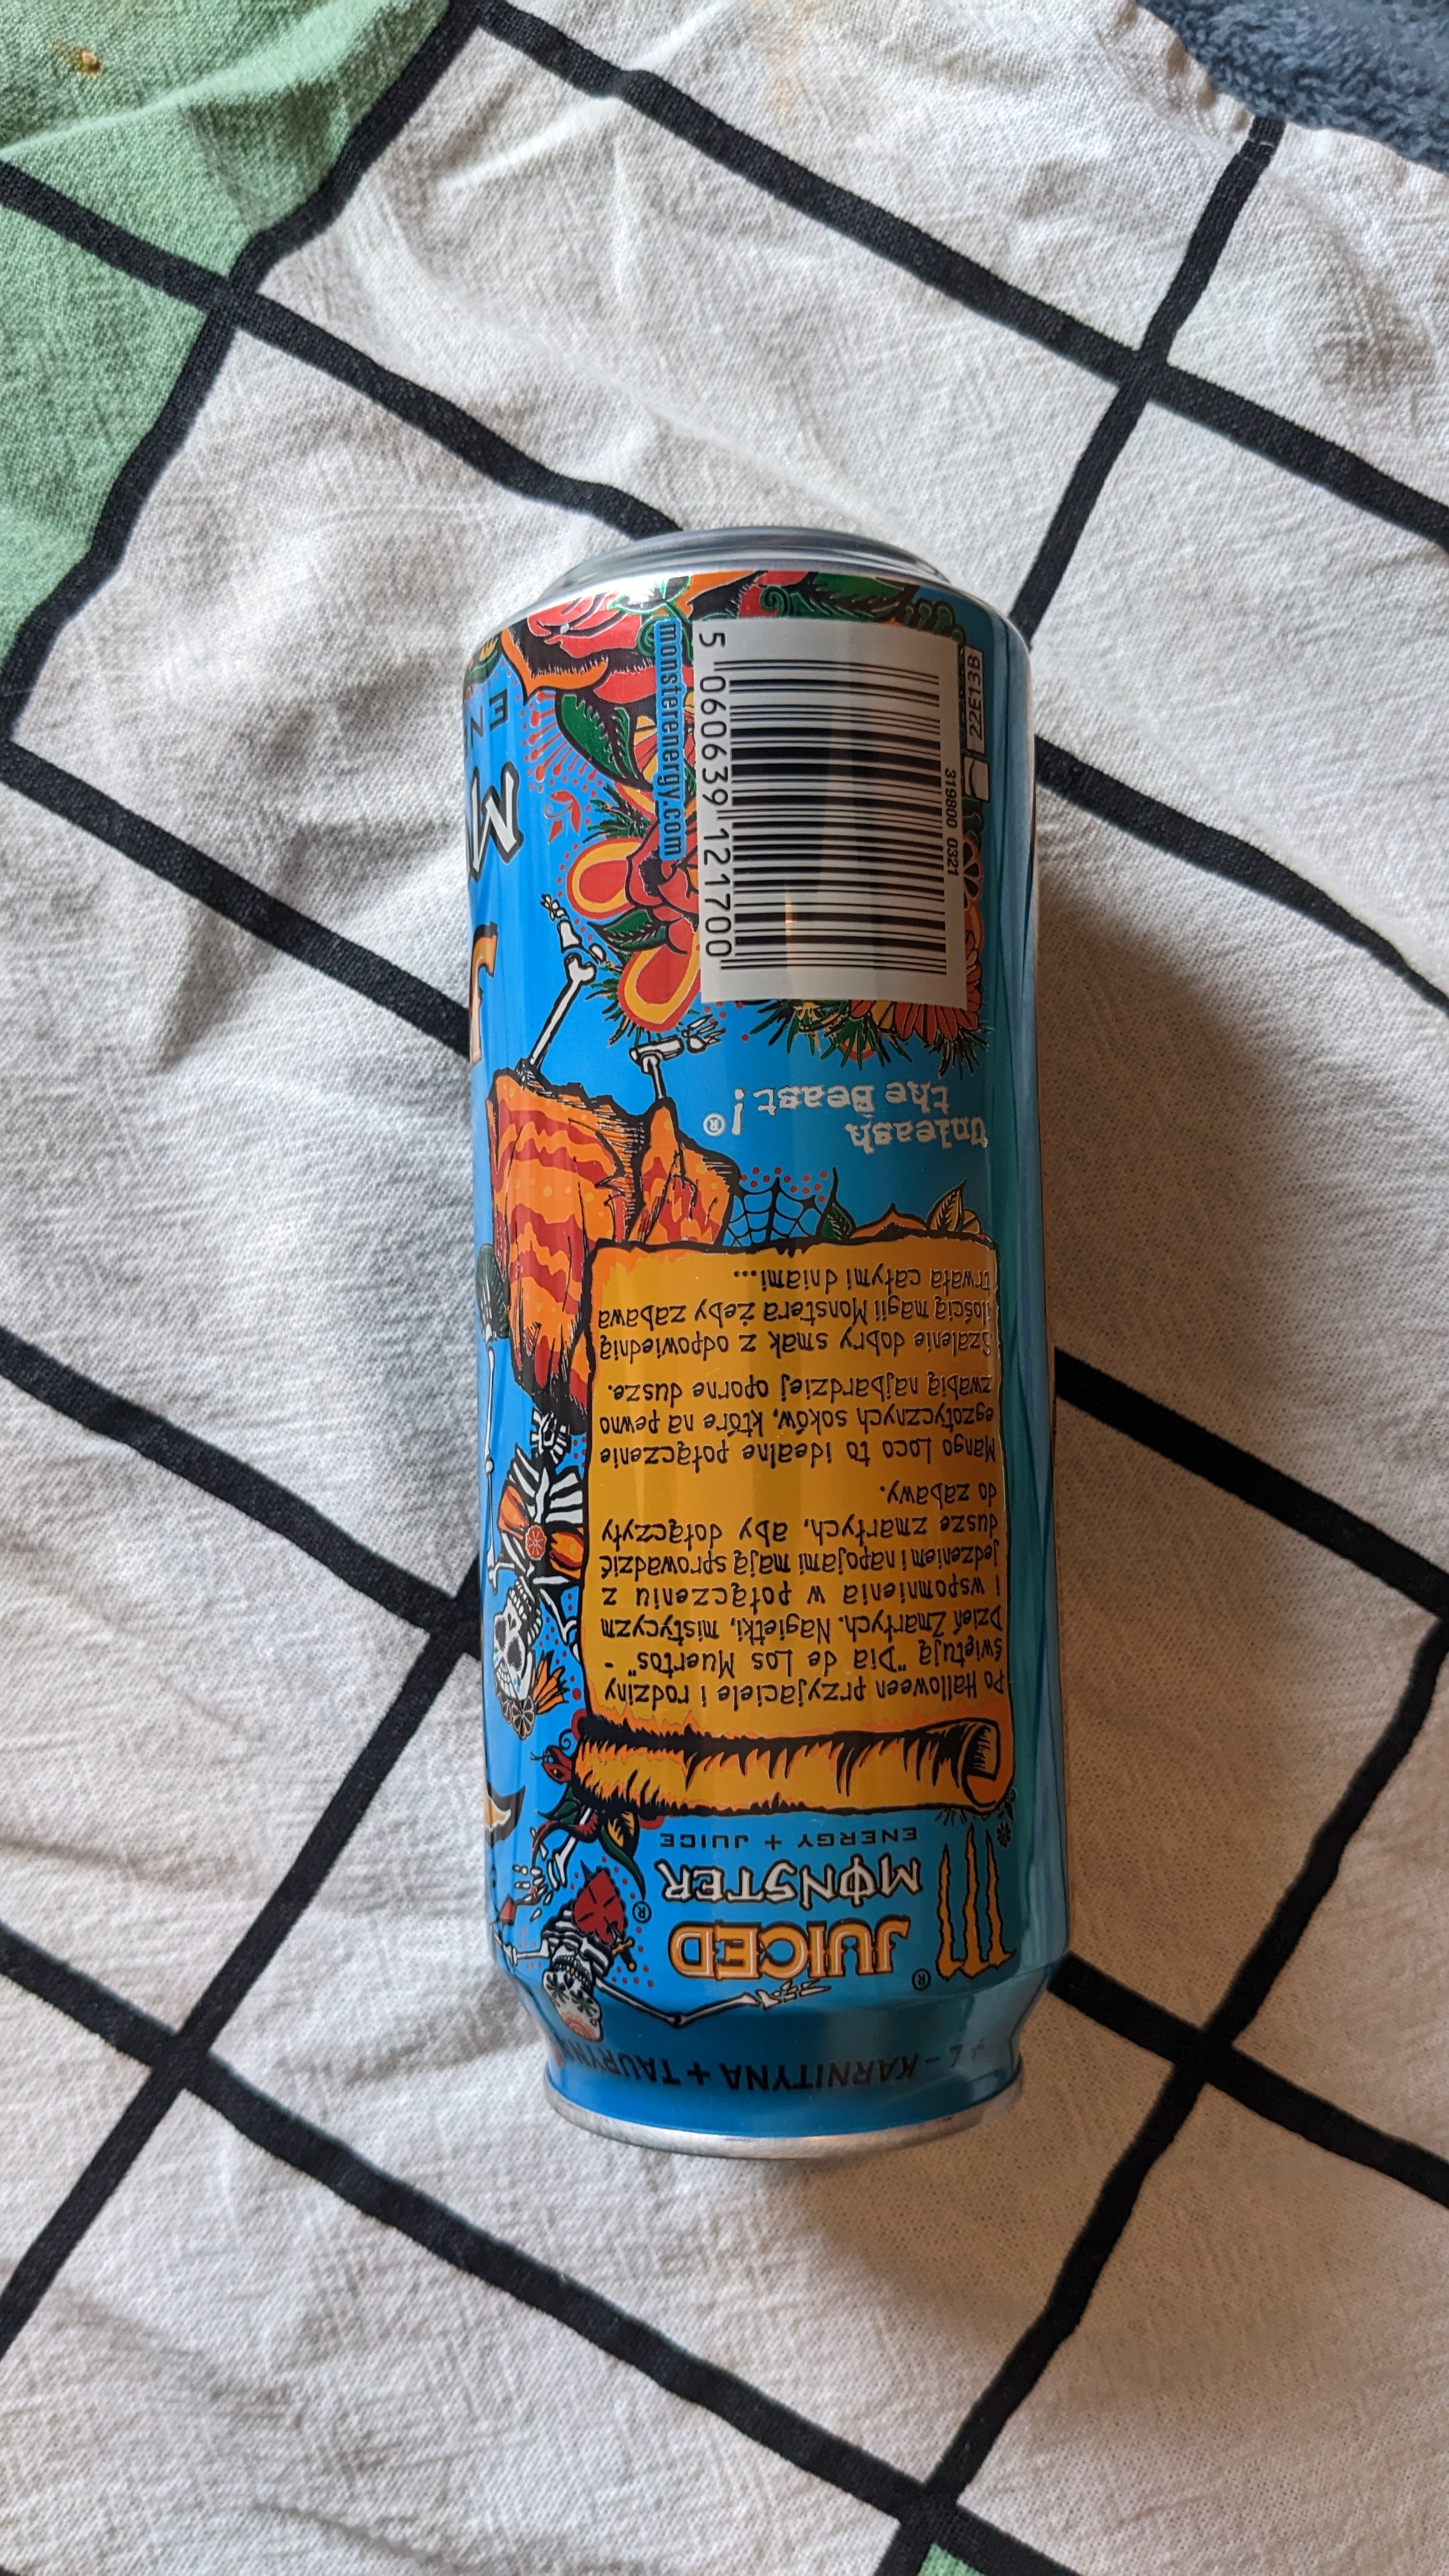monster: (421, 520, 1132, 2173)
